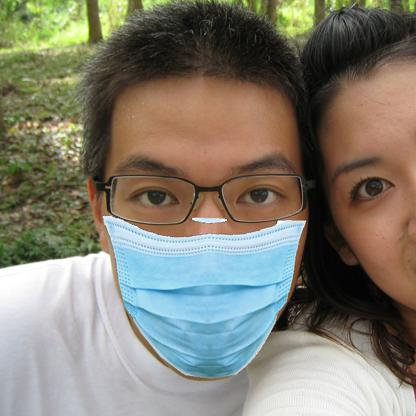mask: (102, 214, 303, 382)
